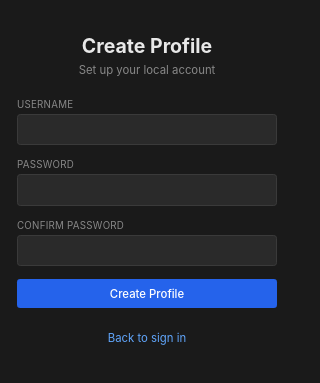
Test: RegisterPage › shows validation error when password is shorter than 8 characters
Step 1. Type "newuser" into the field labelled "Username" → (147, 130), box [17,114,277,145]
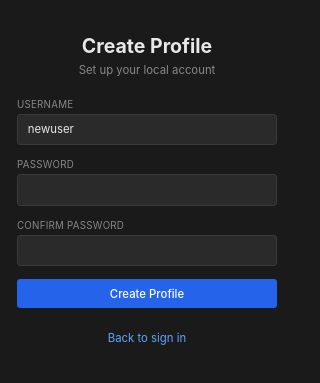
Step 2. Type "short" into the password field labelled "Password" → (147, 190), box [17,174,277,206]
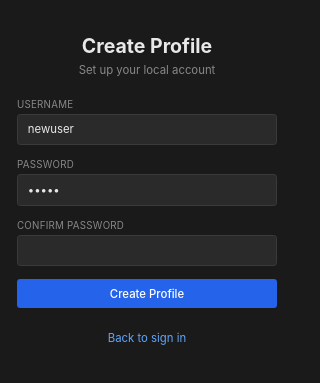
Step 3. Type "short" into the password field labelled "Confirm Password" → (147, 251), box [17,235,277,266]
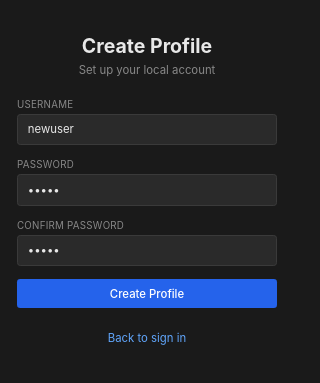
Step 4. Click the button "Create Profile" → (147, 294), box [17,279,277,308]
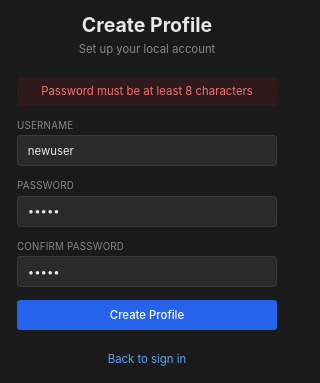
Expected: the text "Password must be at least 8 characters" is shown, [17,76,277,106]
